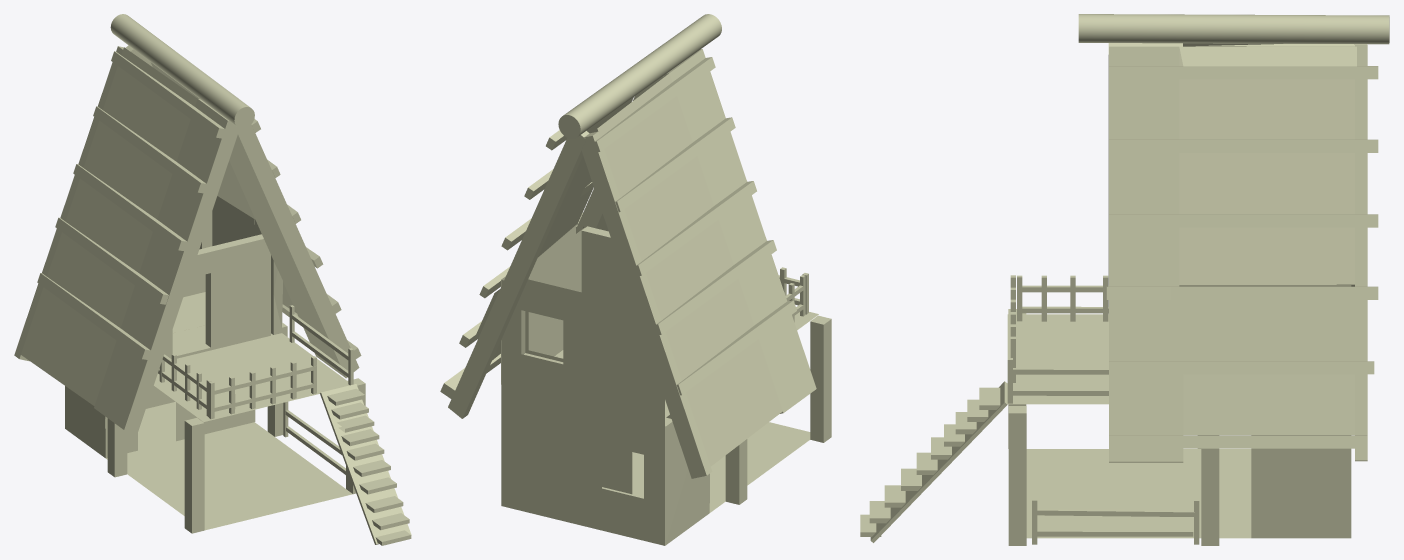
Rendered from 2 person beach bure.dae.
3 renders of one model, left to right at view 1: azimuth 30°, elevation 25°; view 2: azimuth 150°, elevation 25°; view 3: azimuth 270°, elevation 25°, orthographic. The views are drawn at different scales.
Visible parts, largest first — view 1: SketchUp (×8); view 2: SketchUp (×6); view 3: SketchUp (×10).
Part boxes in pixels (left/top/right/bottom): SketchUp (×8): left=14, top=14, right=411, bottom=544; SketchUp (×6): left=440, top=14, right=831, bottom=545; SketchUp (×10): left=870, top=14, right=1389, bottom=545.
Size of the model in its own units: 76.88 by 118 by 118.
